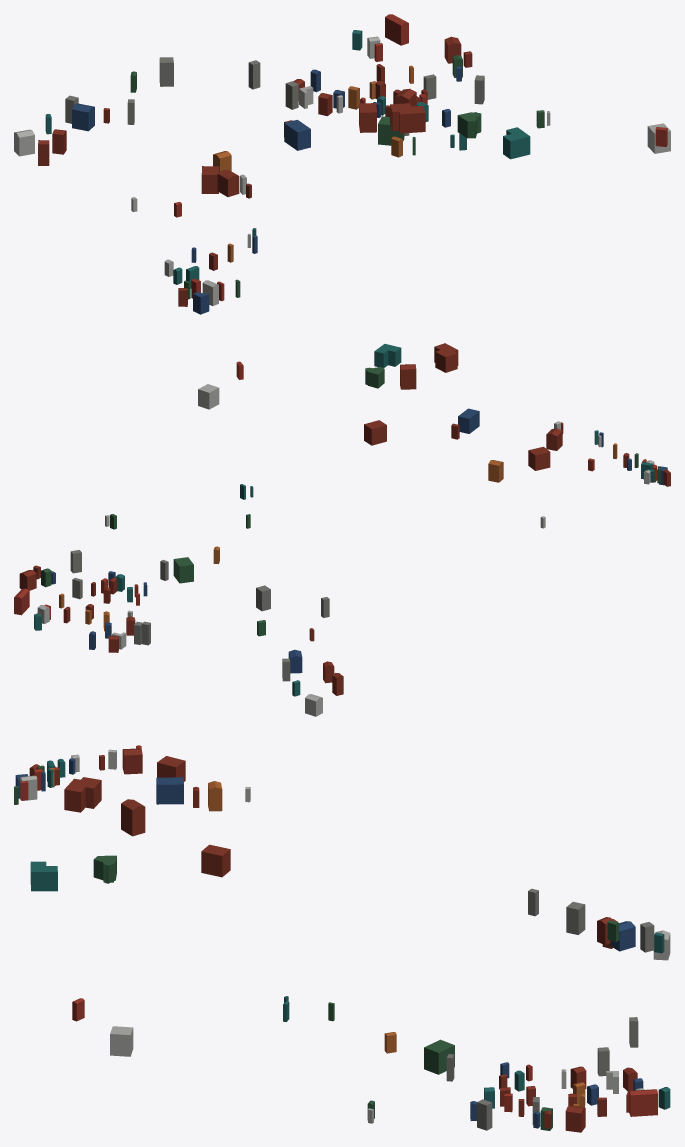
The model's file is near-16-54717-29736.c9003c43.glb.
3 renders of one model, top to bottom at view 1: azimuth 30°, elevation 25°; view 2: azimuth 150°, elevation 25°; view 3: azimuth 270°, elevation 25°, orthographic. The views are drawn at different scales.
Bounding box in the file's own units: 590 × 227 × 588.
